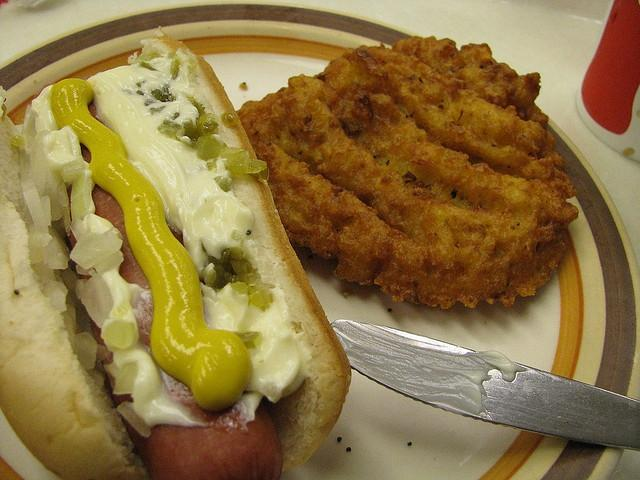onion: (71, 227, 123, 269), (81, 274, 114, 330), (21, 178, 49, 234), (24, 134, 48, 198), (116, 401, 152, 438), (100, 318, 138, 352), (74, 331, 98, 370), (113, 360, 139, 395), (94, 250, 124, 275), (48, 236, 68, 270), (60, 158, 86, 183), (21, 104, 36, 138), (48, 288, 68, 313), (58, 202, 72, 237), (88, 368, 104, 390), (40, 195, 51, 226), (66, 301, 76, 333), (51, 221, 66, 240), (28, 248, 44, 264), (54, 269, 64, 283)
